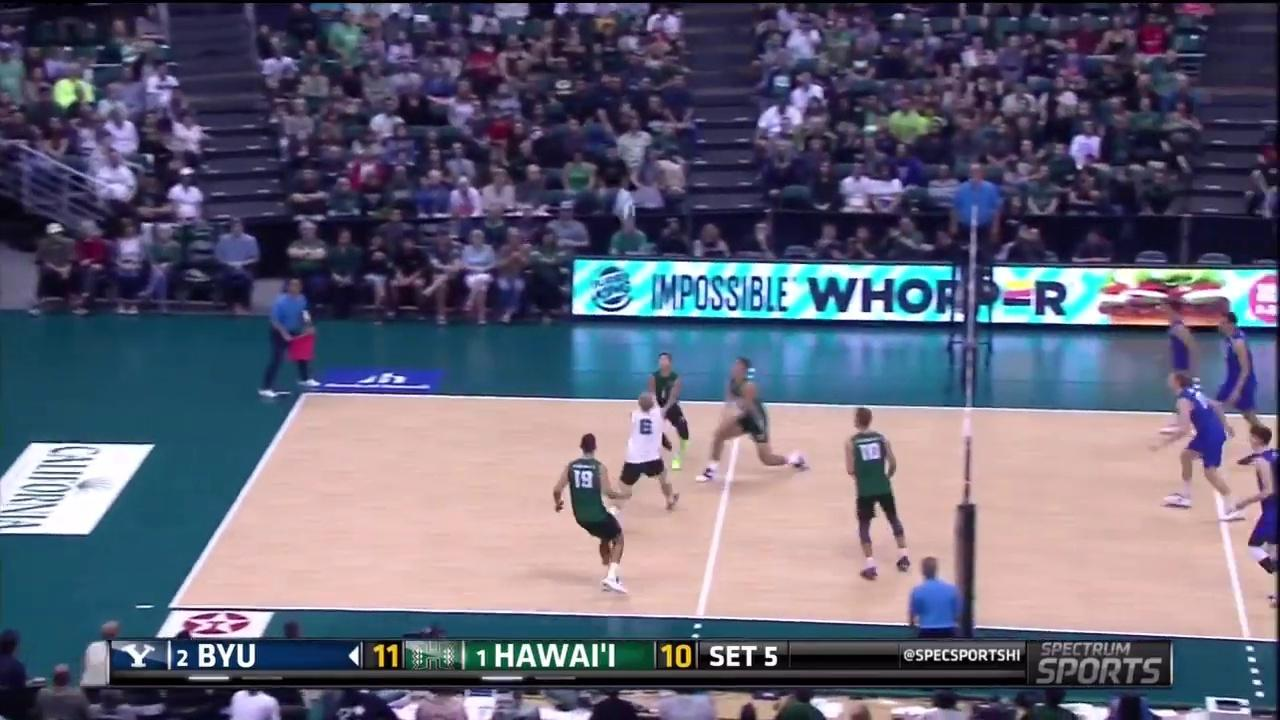player: (698, 360, 804, 479), (551, 438, 631, 592), (842, 412, 908, 576), (1162, 376, 1234, 511), (619, 387, 682, 515), (637, 349, 703, 471), (1214, 311, 1271, 451), (1156, 293, 1207, 439), (1243, 424, 1280, 612)
refree: (942, 157, 1011, 289), (899, 552, 975, 643), (263, 280, 316, 392)
